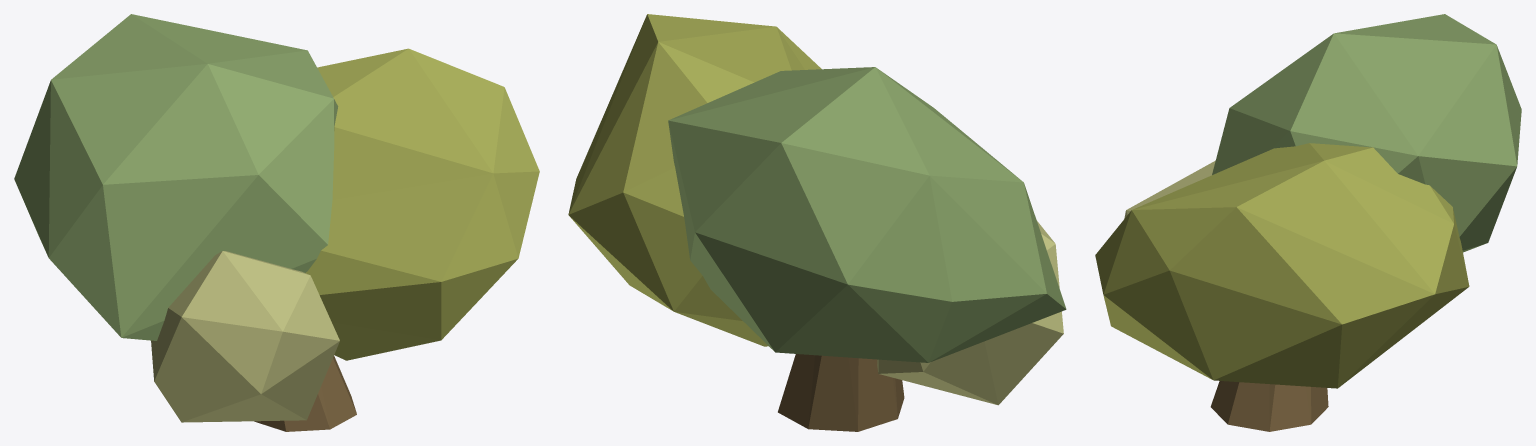
File: bush3_felix.fbx
3 renders of one model, left to right at view 1: azimuth 30°, elevation 25°; view 2: azimuth 150°, elevation 25°; view 3: azimuth 270°, elevation 25°, orthographic. The views are drawn at different scales.
Parts seen in each view (by area): view 1: Icosphere.021, Icosphere.022, Icosphere.023, Cylinder.005; view 2: Icosphere.021, Icosphere.022, Icosphere.023, Cylinder.005; view 3: Icosphere.022, Icosphere.021, Cylinder.005, Icosphere.023.
Boxes of the visible parts, x1,y1,x2,y2 form: Icosphere.021: (14,14,338,340); Icosphere.022: (305,48,539,360); Icosphere.023: (151,251,339,422); Cylinder.005: (254,356,356,431); Icosphere.021: (668,67,1066,362); Icosphere.022: (568,14,821,346); Icosphere.023: (877,221,1063,405); Cylinder.005: (778,354,904,431); Icosphere.022: (1095,143,1469,388); Icosphere.021: (1212,14,1521,252); Cylinder.005: (1210,381,1328,431); Icosphere.023: (1124,160,1215,218).
Size of the model in its own units: 3.13 by 2.42 by 2.73.
